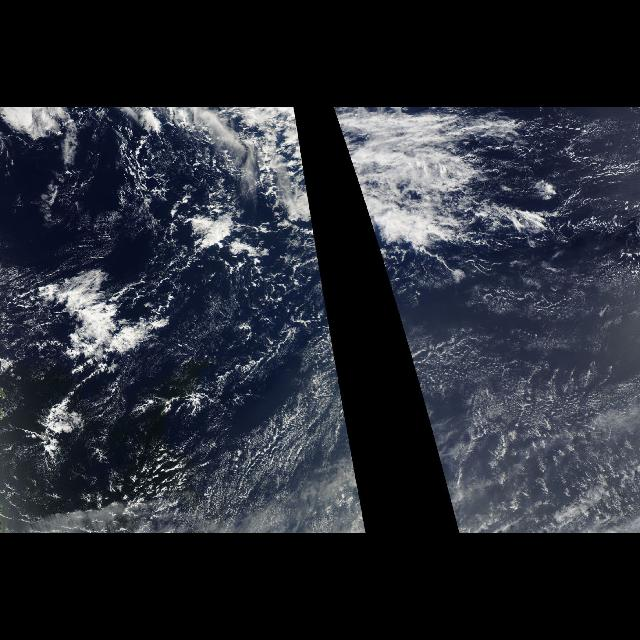Sugar: (402, 305, 640, 531), (165, 336, 368, 532)
